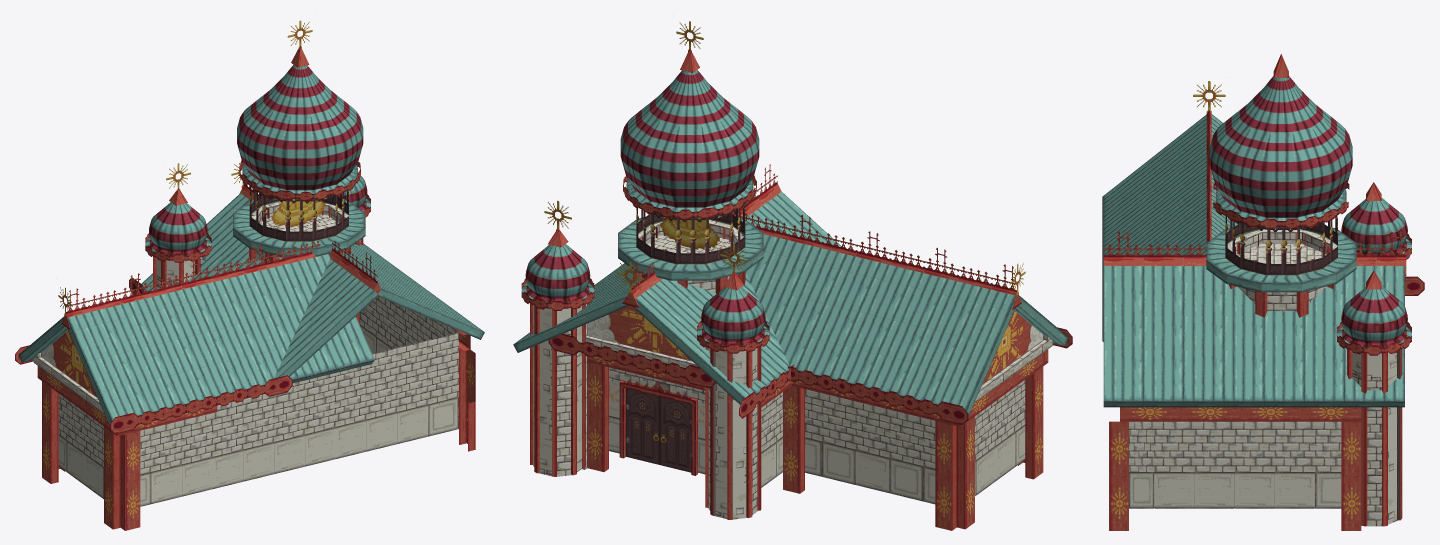
Rendered from church.fbx.
The picture shows the model from 3 angles, left to right: view 1: azimuth 30°, elevation 25°; view 2: azimuth 150°, elevation 25°; view 3: azimuth 270°, elevation 25°; orthographic projection. The views are drawn at different scales.
Parts seen in each view (by area): view 1: church; view 2: church; view 3: church.
Boxes of the visible parts, x1,y1,x2,y2 form: church: (15, 20, 484, 530); church: (513, 21, 1072, 530); church: (1102, 54, 1424, 530).
Bounding box in the file's own units: 1228 × 1245 × 805.
